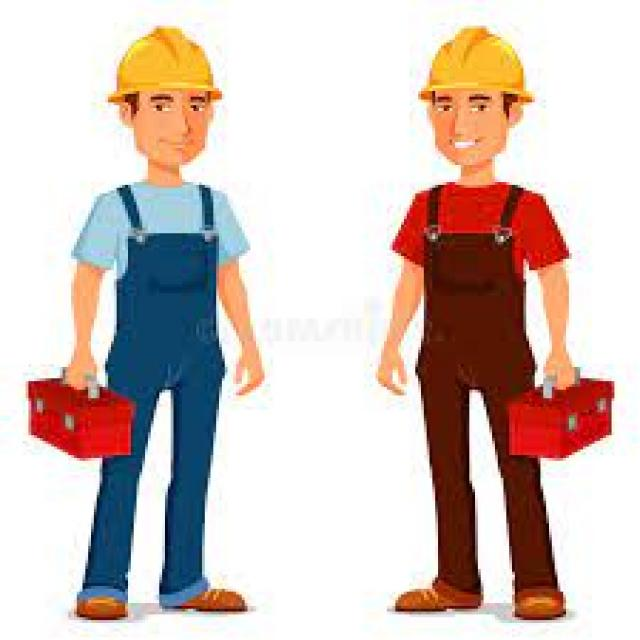Safety-Helmet: (415, 20, 538, 108), (102, 20, 228, 105)
